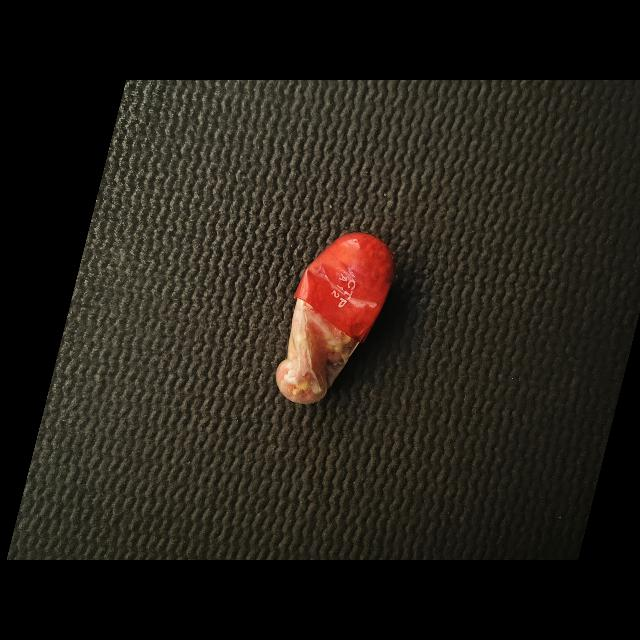Defective Capsule: (276, 232, 395, 404)
